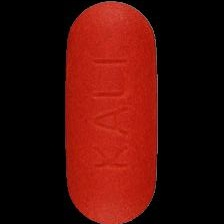49884-946: (0, 0, 224, 224)
